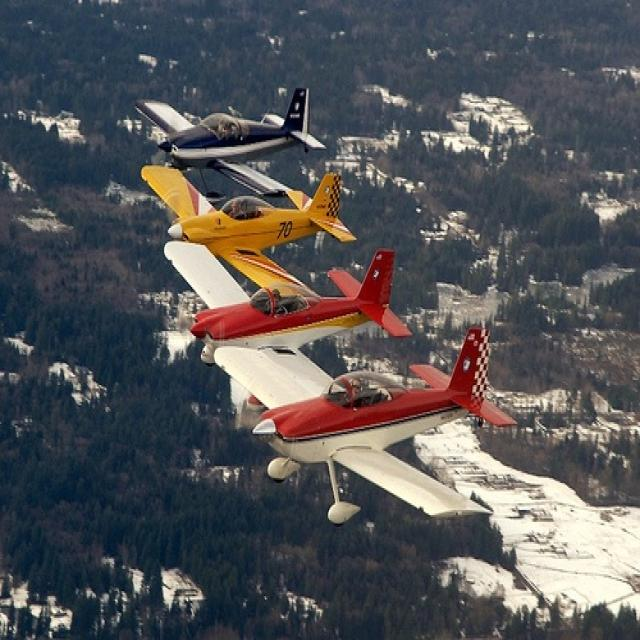aeroplane: (212, 326, 521, 527), (160, 238, 412, 397), (140, 158, 357, 296), (134, 83, 326, 204)
